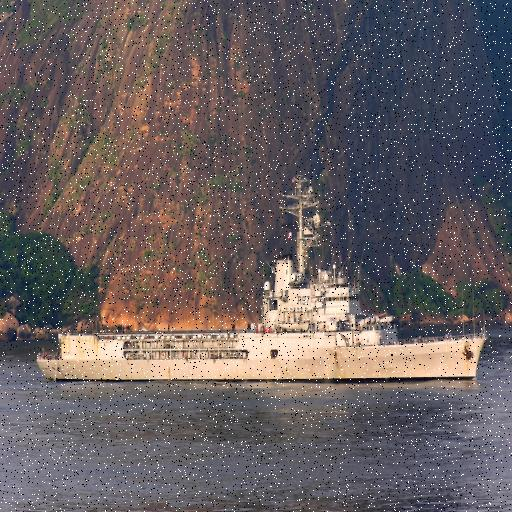Portanaves: (35, 173, 491, 387)
